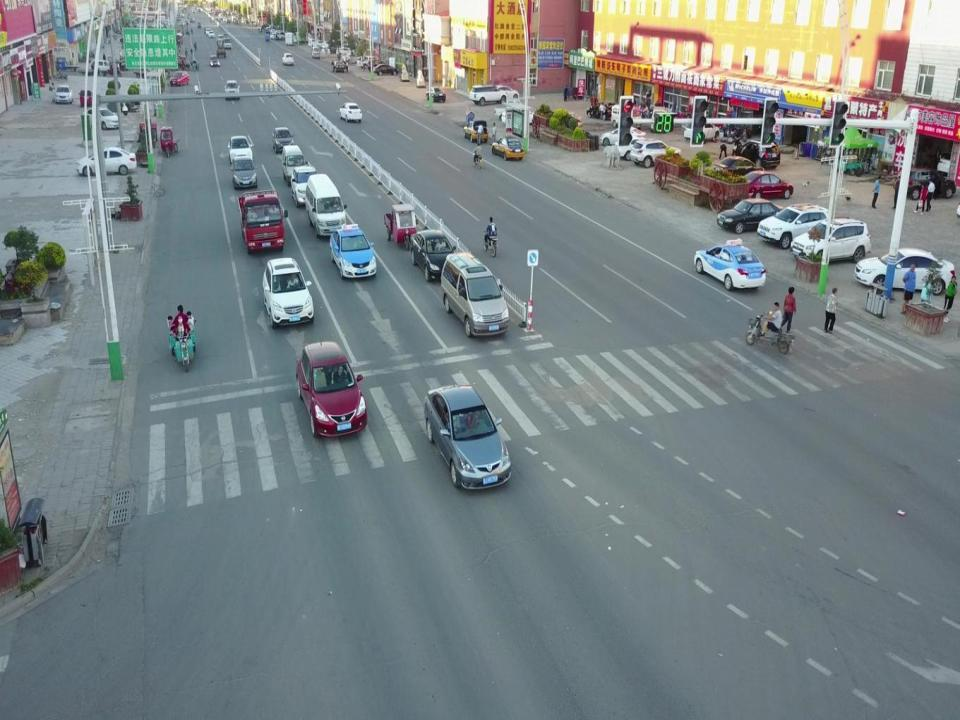car: (425, 385, 510, 489), (853, 248, 955, 296), (694, 238, 765, 291), (330, 222, 378, 279), (410, 229, 458, 281), (717, 198, 784, 234), (734, 170, 794, 202), (76, 147, 136, 175), (712, 156, 765, 182), (615, 136, 660, 162), (600, 126, 648, 149), (230, 155, 258, 190), (81, 106, 121, 130), (492, 133, 524, 160), (683, 121, 720, 143), (228, 136, 254, 166), (501, 106, 537, 126), (463, 118, 489, 143), (272, 127, 294, 153), (586, 102, 615, 120), (490, 85, 519, 103), (48, 84, 72, 104), (340, 103, 362, 123), (374, 63, 398, 75), (170, 72, 190, 86), (426, 87, 446, 100), (78, 89, 92, 106), (341, 54, 361, 65), (208, 54, 220, 66), (312, 40, 329, 48), (333, 61, 345, 72), (207, 30, 215, 37), (205, 28, 211, 35)
truck: (237, 189, 288, 253), (494, 99, 526, 121), (54, 57, 80, 72), (216, 39, 227, 58), (296, 32, 312, 43), (284, 33, 294, 46), (222, 37, 232, 49)
van: (297, 335, 367, 436), (440, 251, 509, 338), (790, 218, 871, 264), (262, 257, 314, 327), (757, 204, 829, 250), (306, 174, 346, 238), (894, 166, 956, 200), (630, 138, 682, 168), (731, 140, 781, 170), (290, 166, 322, 207), (282, 145, 308, 187), (610, 103, 642, 129), (469, 85, 507, 105), (224, 79, 240, 101), (357, 56, 381, 68), (368, 59, 386, 69), (336, 47, 353, 57), (282, 53, 294, 65), (308, 39, 324, 48), (323, 41, 338, 50), (312, 46, 320, 58), (216, 35, 224, 44), (222, 33, 228, 41)
